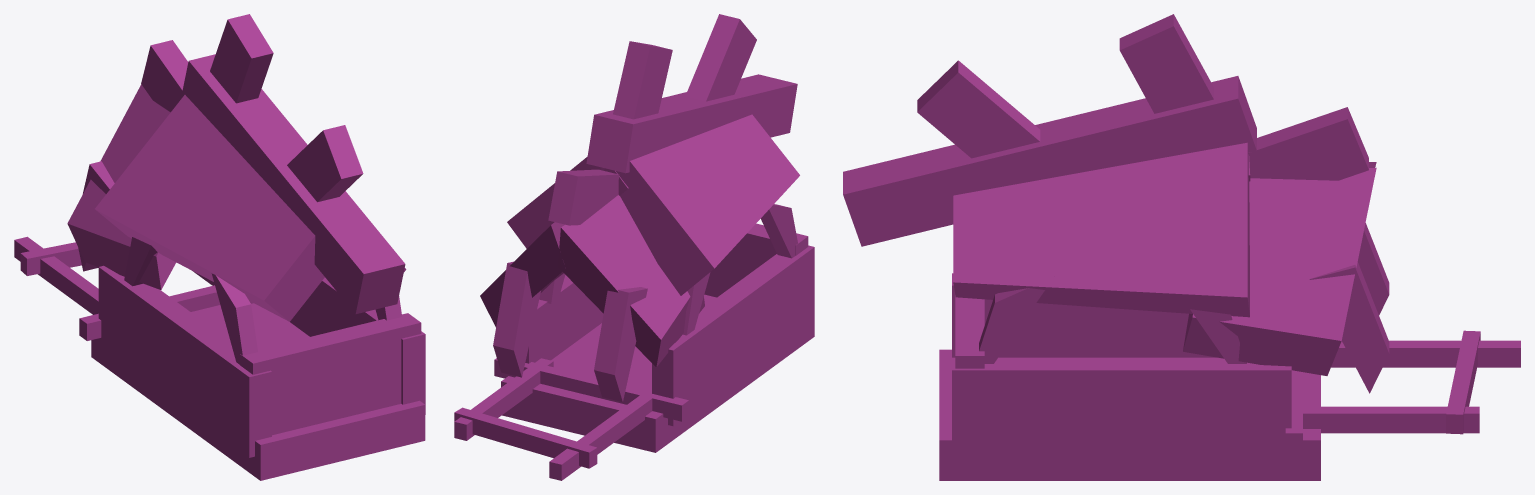
The model's file is SM_Veh_Cart_03_Collision.fbx.
3 renders of one model, left to right at view 1: azimuth 30°, elevation 25°; view 2: azimuth 150°, elevation 25°; view 3: azimuth 270°, elevation 25°, orthographic. The views are drawn at different scales.
Parts seen in each view (by area): view 1: SM_Veh_Cart_03_Collision; view 2: SM_Veh_Cart_03_Collision; view 3: SM_Veh_Cart_03_Collision.
Boxes of the visible parts, x1=… form: SM_Veh_Cart_03_Collision: x1=14, y1=14, x2=425, y2=480; SM_Veh_Cart_03_Collision: x1=454, y1=14, x2=814, y2=480; SM_Veh_Cart_03_Collision: x1=843, y1=14, x2=1520, y2=480.
Size of the model in its own units: 244 by 389 by 575.
